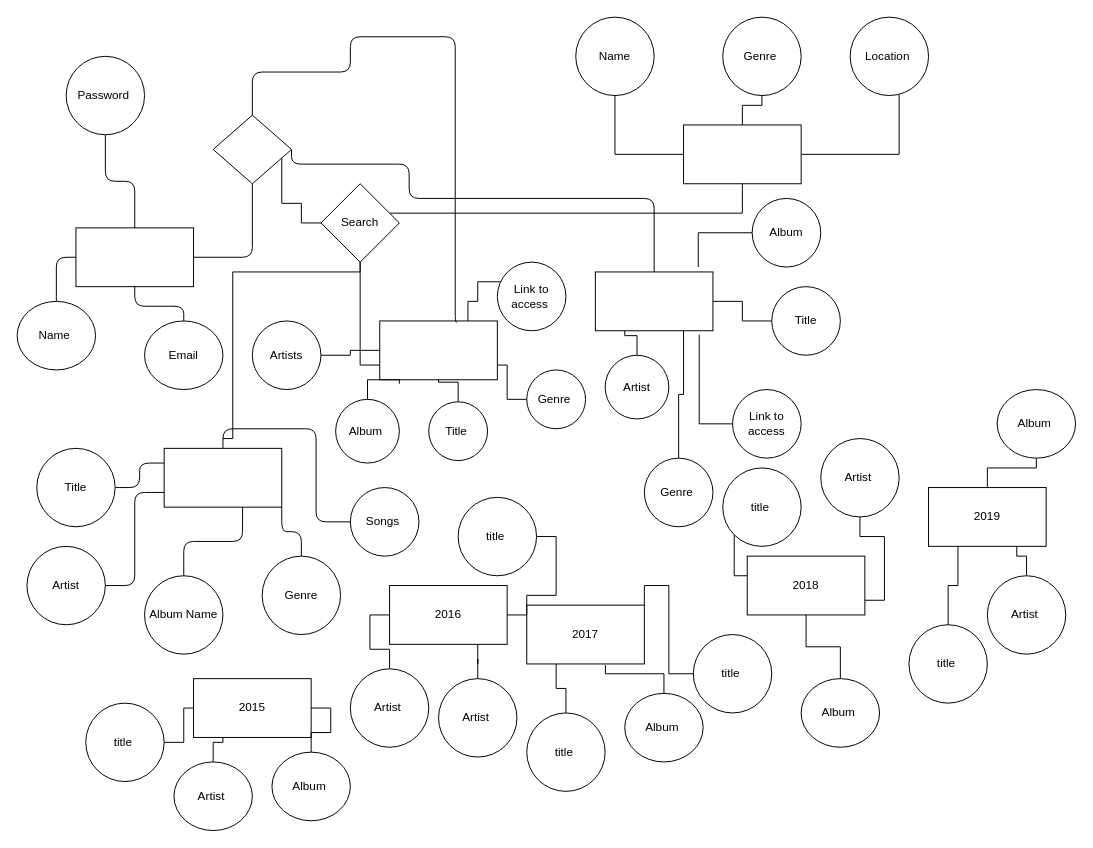
Image size: 1093x848. Some labels were removed from this diagram. Here are the shapes that lost their labels. From the top down, the box of each, then its label:
(212, 114, 292, 184): Saves
(683, 124, 801, 184): Radio Stations
(75, 227, 194, 287): Person
(594, 271, 713, 331): Top Songs Global
(379, 320, 497, 380): Top Songs USA
(163, 447, 282, 507): Albums
